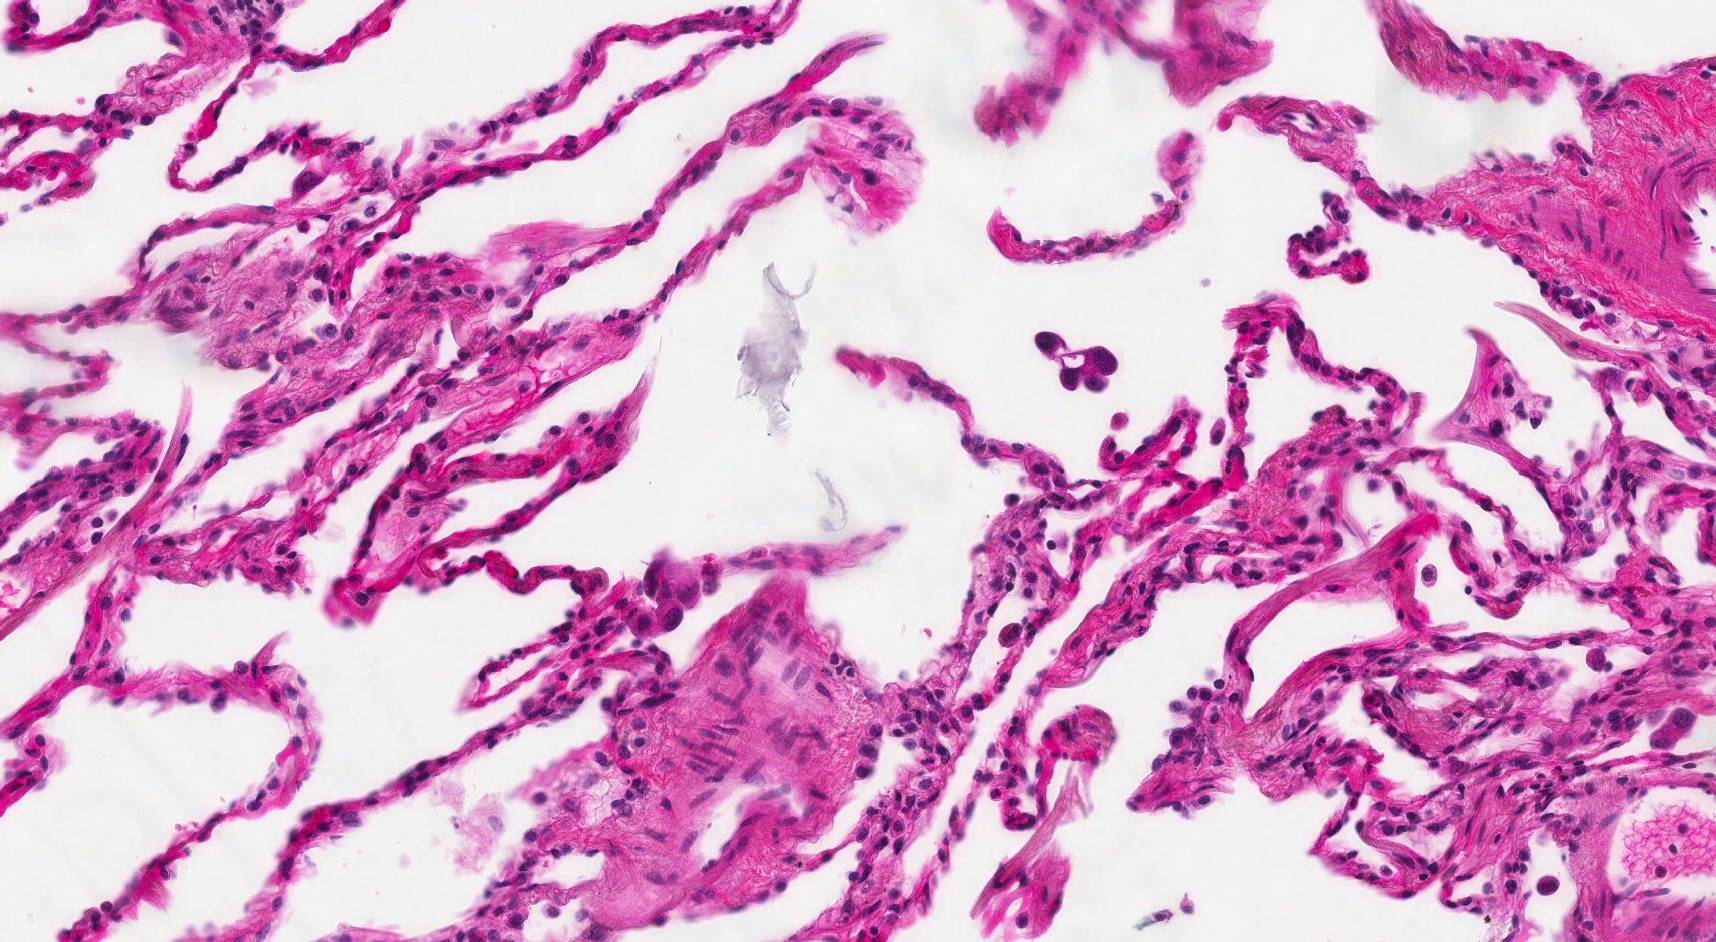stas: (1034, 331, 1121, 393)
